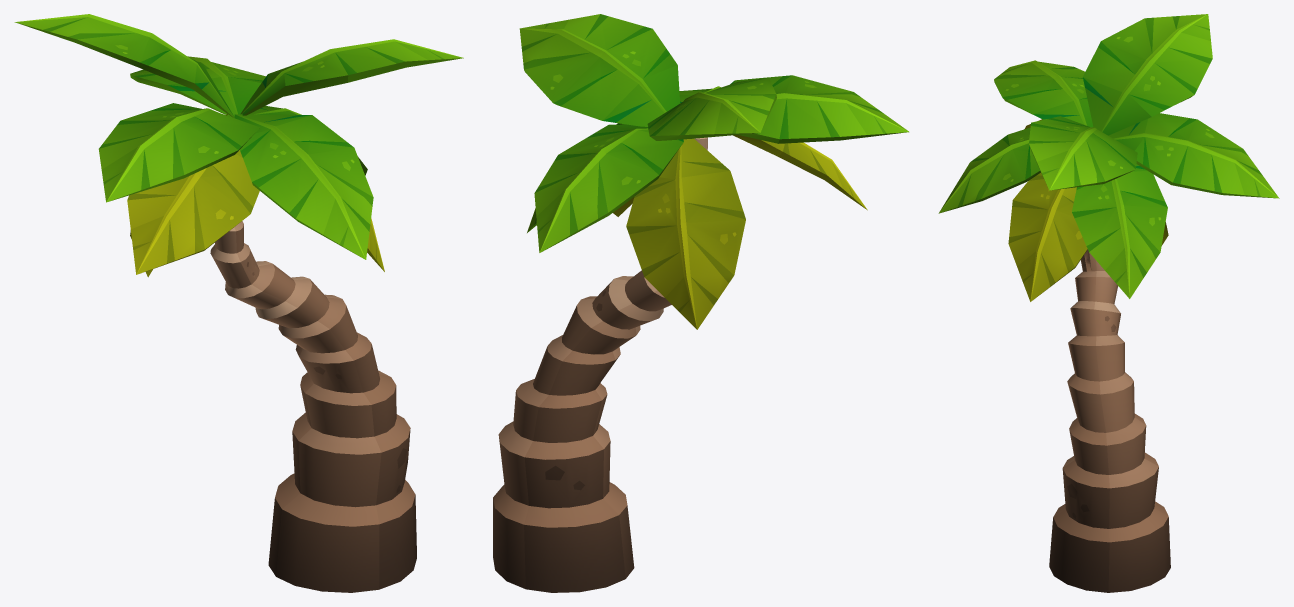
File: coconut3.glb
3 views of the same model, side by side, from view 1: azimuth 30°, elevation 25°; view 2: azimuth 150°, elevation 25°; view 3: azimuth 270°, elevation 25° (orthographic). The views are drawn at different scales.
Parts seen in each view (by area): view 1: coconut3; view 2: coconut3; view 3: coconut3.
Boxes of the visible parts, <box> form: coconut3: <box>14,14,463,592</box>; coconut3: <box>493,14,908,592</box>; coconut3: <box>938,14,1279,592</box>.
Bounding box in the file's own units: 3.84 × 5.43 × 3.69.
1 material, 1 textured.
